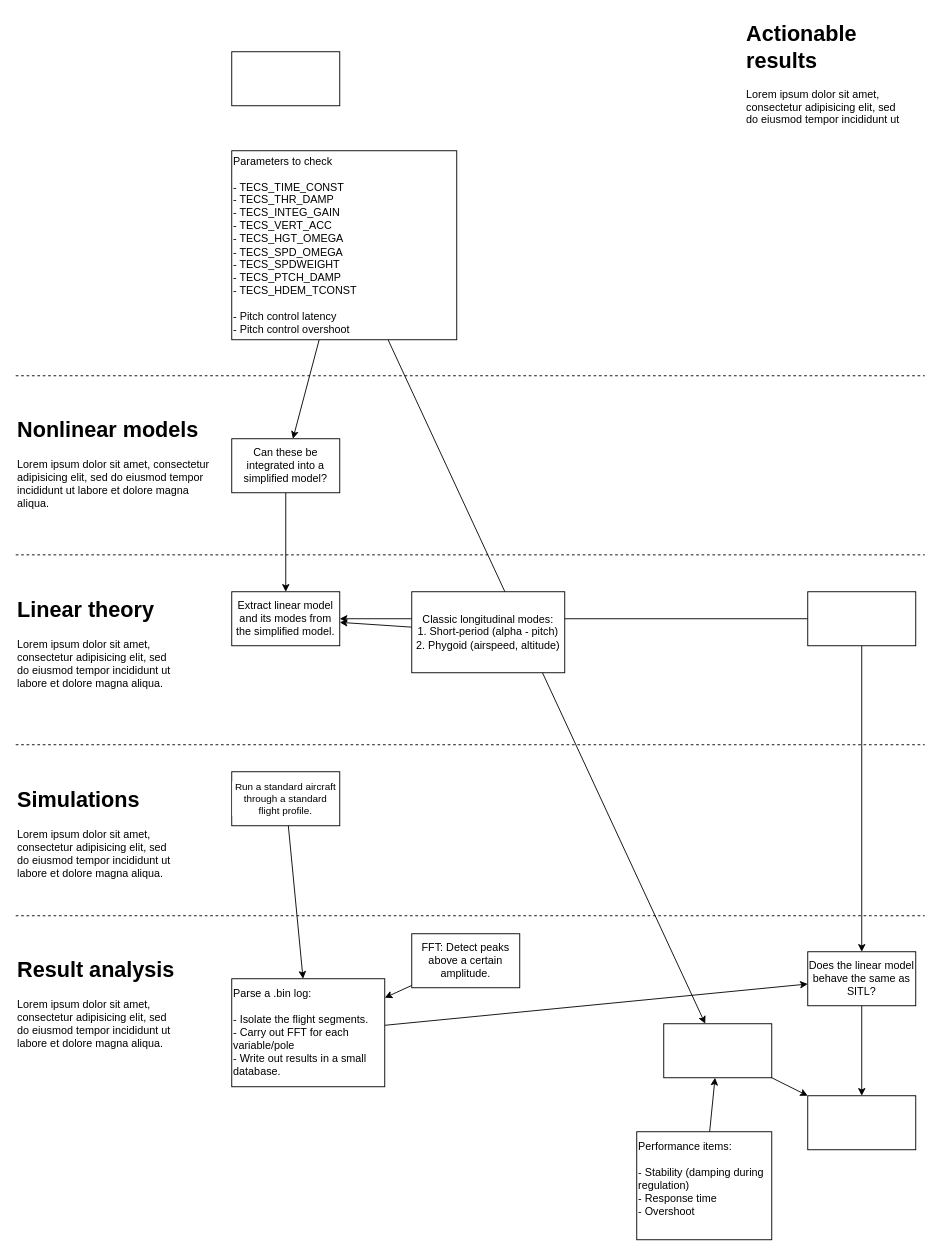
This 941x1256 diagram has some shape labels left out. Each missing label, with the box of its shape:
Assumptions: - Airspeed enabled. - Powered flight.: (231, 51, 340, 106)
Root locus plot when sweeping a gain.: (807, 591, 916, 646)
Strategies for tuning?: (807, 1095, 916, 1150)
Visualize how each parameter affects performance.: (663, 1023, 772, 1078)
